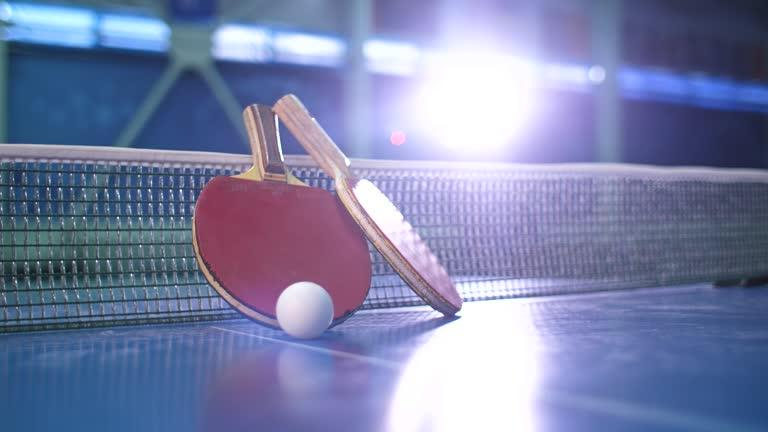ball_pingpong: (274, 281, 334, 339)
